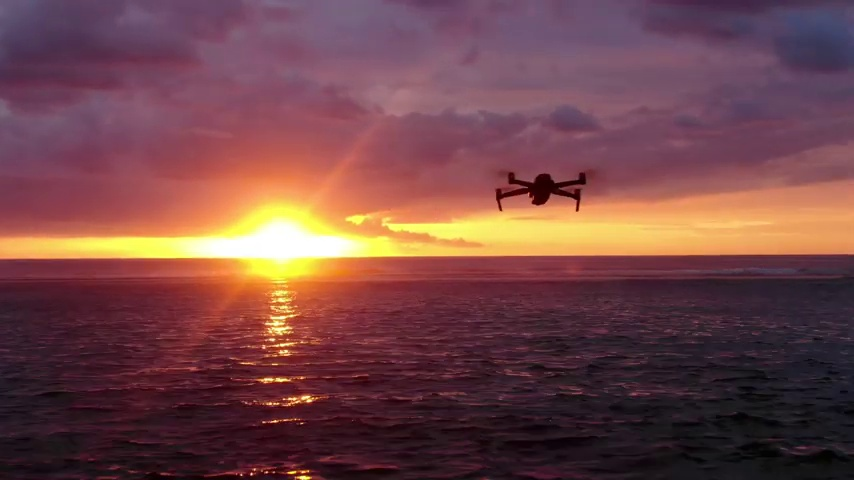drone: (494, 170, 586, 215)
